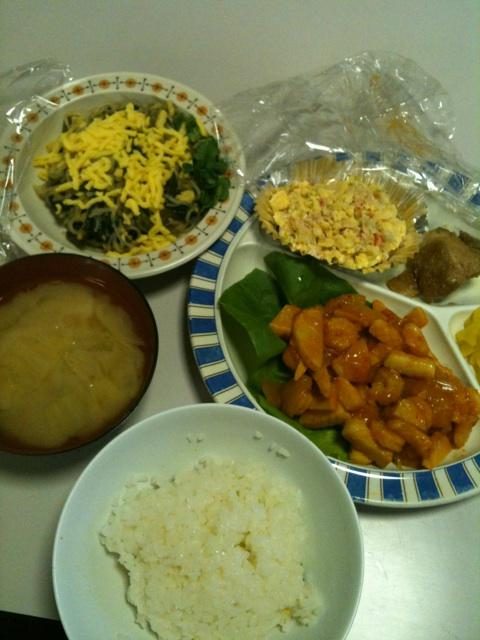plate: (52, 404, 363, 639)
rice: (99, 458, 320, 639)
